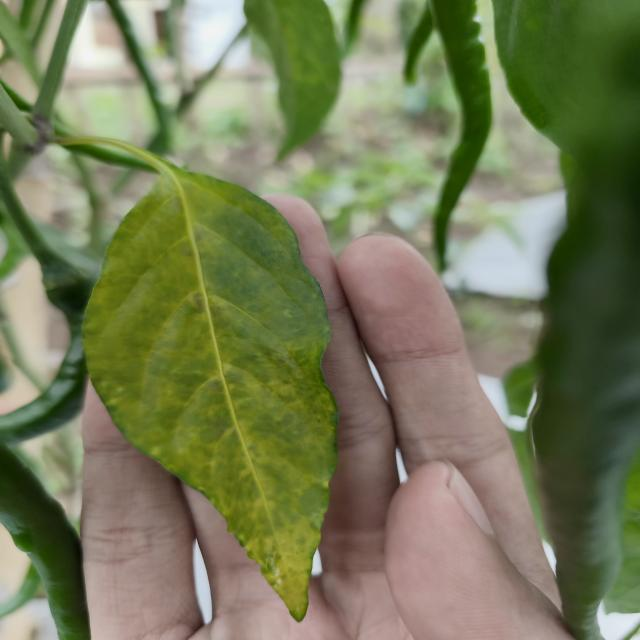Virus Kuning: (77, 146, 340, 622)
